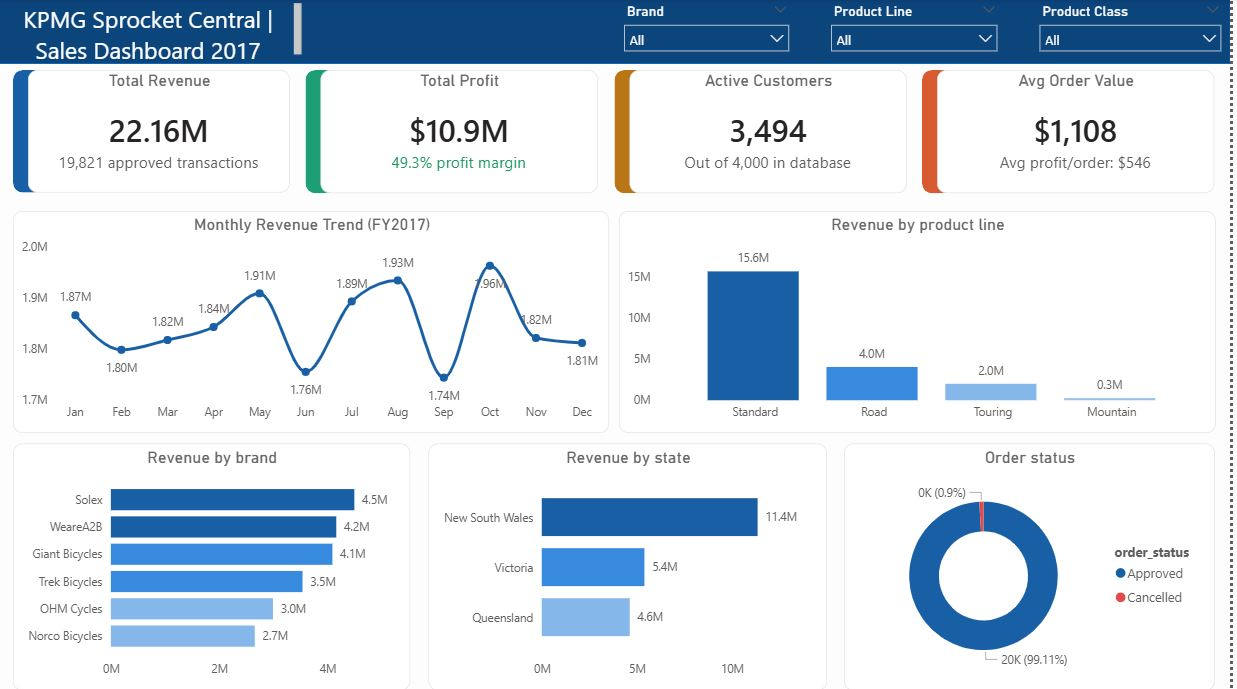

The dashboard page shown, as its layout file describes it:
{"tool":"powerbi","page":{"name":"Executive Overview","canvas":[1280,720],"ordinal":0},"visuals":[{"type":"shape","box":[320.2,75.6,32,128],"z":0,"group":"g2"},{"type":"shape","box":[640.4,75.6,32,128],"z":0,"group":"g3"},{"type":"shape","box":[960.5,75.6,32,128],"z":0,"group":"g4"},{"type":"lineChart","title":"Monthly Revenue Trend (FY2017)","fields":{"Category":["DateTable.MonthName"],"Y":["_Measures.Total Revenue"]},"box":[15.9,221.4,619.6,231],"z":0},{"type":"cardVisual","title":"Total Profit","fields":{"Data":["_Measures.Total Profit"]},"box":[336.2,75.6,288,128],"z":1000,"group":"g2"},{"type":"cardVisual","title":"Active Customers","fields":{"Data":["CustomerDemographic.Active Customers"]},"box":[656.4,75.6,288,128],"z":1000,"group":"g3"},{"type":"cardVisual","title":"Avg Order Value","fields":{"Data":["_Measures.Avg Order Value"]},"box":[976.5,75.6,288,128],"z":1000,"group":"g4"},{"type":"clusteredBarChart","title":"Revenue by brand","fields":{"Category":["Transactions.brand"],"Y":["_Measures.Total Revenue"]},"box":[15.9,463.5,412.6,256.5],"z":1000},{"type":"donutChart","title":"Order status","fields":{"Category":["Transactions.order_status"],"Y":["_Measures.Total Transactions"]},"box":[879.3,463.5,385.5,256.5],"z":2000},{"type":"columnChart","title":"Revenue by product line","fields":{"Category":["Transactions.product_line"],"Y":["_Measures.Total Revenue"]},"box":[644.8,221.4,620,231],"z":3000},{"type":"clusteredBarChart","title":"Revenue by state","fields":{"Y":["_Measures.Total Revenue"],"Category":["CustomerAddress.state"]},"box":[447.6,463.5,414.2,256.5],"z":4000},{"type":"shape","box":[0,0,1280.7,68.5],"z":5000},{"type":"slicer","fields":{"Values":["CustomerDemographic.wealth_segment"]},"box":[640.4,0,191.2,68.5],"z":6000},{"type":"slicer","fields":{"Values":["CustomerDemographic.gender"]},"box":[855.4,0,192.7,68.5],"z":7000},{"type":"textbox","box":[0,0,320.2,68.5],"z":8000},{"type":"slicer","fields":{"Values":["CustomerDemographic.Age_Group"]},"box":[1072,0,208.7,68.5],"z":9000},{"type":"group","id":"g1","title":"Group 1","box":[15.9,75.6,288.3,127.4],"z":10000},{"type":"group","id":"g2","title":"Group 2","box":[320.2,75.6,304,128],"z":11000},{"type":"group","id":"g3","title":"Group 3","box":[640.4,75.6,304.2,129],"z":12000},{"type":"shape","box":[15.9,75.6,32,127.4],"z":12500,"group":"g1"},{"type":"cardVisual","title":"Total Revenue","fields":{"Data":["_Measures.Total Revenue"]},"box":[31.9,75.6,272.3,127.4],"z":13000,"group":"g1"},{"type":"group","id":"g4","title":"Group 4","box":[960.5,75.6,304.2,129],"z":13000}]}

Visuals, with their boxes in screenshot pixels (x1, y1, x2, y2), scaled from the page's 1280x720 canvas onto the 1237x689 screenshot:
shape: <region>309, 72, 340, 195</region>
shape: <region>619, 72, 650, 195</region>
shape: <region>928, 72, 959, 195</region>
"Monthly Revenue Trend (FY2017)" lineChart: <region>15, 212, 614, 433</region>
"Total Profit" cardVisual: <region>325, 72, 603, 195</region>
"Active Customers" cardVisual: <region>634, 72, 913, 195</region>
"Avg Order Value" cardVisual: <region>944, 72, 1222, 195</region>
"Revenue by brand" clusteredBarChart: <region>15, 444, 414, 688</region>
"Order status" donutChart: <region>850, 444, 1222, 688</region>
"Revenue by product line" columnChart: <region>623, 212, 1222, 433</region>
"Revenue by state" clusteredBarChart: <region>433, 444, 833, 688</region>
shape: <region>0, 0, 1236, 66</region>
slicer - CustomerDemographic.wealth_segment: <region>619, 0, 804, 66</region>
slicer - CustomerDemographic.gender: <region>827, 0, 1013, 66</region>
textbox: <region>0, 0, 309, 66</region>
slicer - CustomerDemographic.Age_Group: <region>1036, 0, 1236, 66</region>
"Group 1" group: <region>15, 72, 294, 194</region>
"Group 2" group: <region>309, 72, 603, 195</region>
"Group 3" group: <region>619, 72, 913, 196</region>
shape: <region>15, 72, 46, 194</region>
"Total Revenue" cardVisual: <region>31, 72, 294, 194</region>
"Group 4" group: <region>928, 72, 1222, 196</region>
